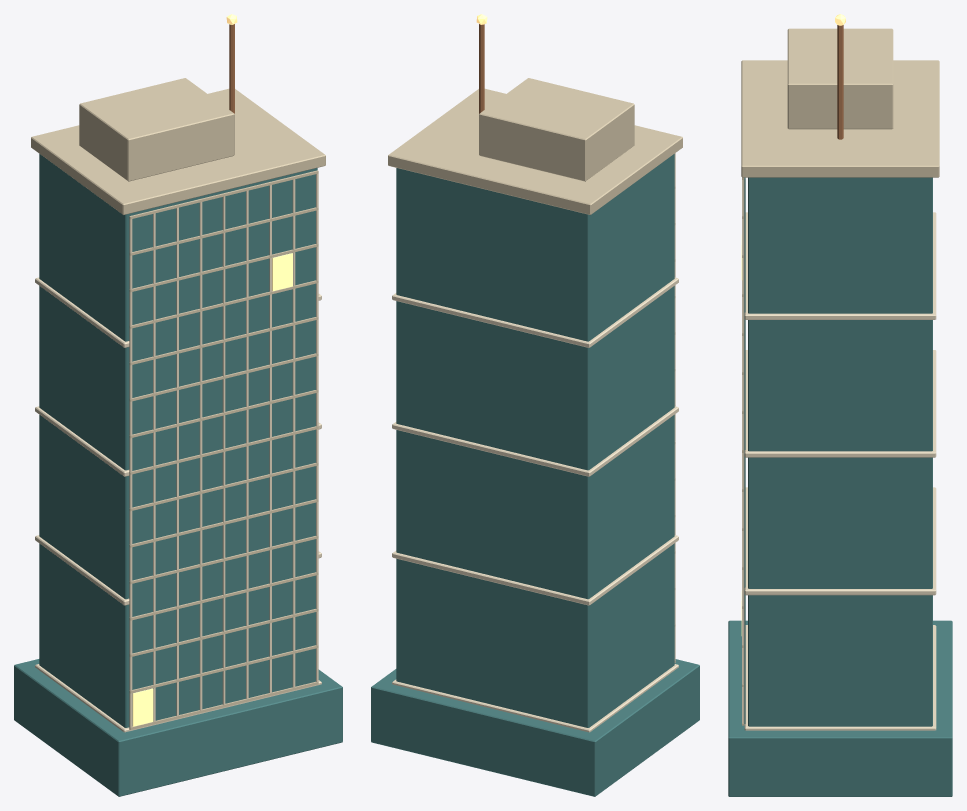
The model's file is hsc3_fab_office.glb.
The picture shows the model from 3 angles, left to right: view 1: azimuth 30°, elevation 25°; view 2: azimuth 150°, elevation 25°; view 3: azimuth 270°, elevation 25°; orthographic projection. The views are drawn at different scales.
Parts seen in each view (by area): view 1: hsc3_fab_office__hsc3-deep-teal, hsc3_fab_office__hsc3-cream-enamel, hsc3_fab_office__hsc3-pale-trim, hsc3_fab_office__hsc3-emissive-warm; view 2: hsc3_fab_office__hsc3-deep-teal, hsc3_fab_office__hsc3-cream-enamel, hsc3_fab_office__hsc3-pale-trim; view 3: hsc3_fab_office__hsc3-deep-teal, hsc3_fab_office__hsc3-cream-enamel, hsc3_fab_office__hsc3-pale-trim, hsc3_fab_office__hsc3-roasted-copper.
Boxes of the visible parts, left/top/right/bottom form: hsc3_fab_office__hsc3-deep-teal: left=14, top=154, right=342, bottom=796; hsc3_fab_office__hsc3-cream-enamel: left=31, top=78, right=325, bottom=729; hsc3_fab_office__hsc3-pale-trim: left=35, top=173, right=321, bottom=732; hsc3_fab_office__hsc3-emissive-warm: left=132, top=14, right=292, bottom=726; hsc3_fab_office__hsc3-deep-teal: left=371, top=154, right=699, bottom=796; hsc3_fab_office__hsc3-cream-enamel: left=388, top=78, right=682, bottom=662; hsc3_fab_office__hsc3-pale-trim: left=392, top=153, right=678, bottom=732; hsc3_fab_office__hsc3-deep-teal: left=728, top=177, right=952, bottom=796; hsc3_fab_office__hsc3-cream-enamel: left=741, top=28, right=939, bottom=725; hsc3_fab_office__hsc3-pale-trim: left=742, top=178, right=936, bottom=730; hsc3_fab_office__hsc3-roasted-copper: left=837, top=25, right=843, bottom=139.
Size of the model in its own units: 21 by 62.9 by 17.
